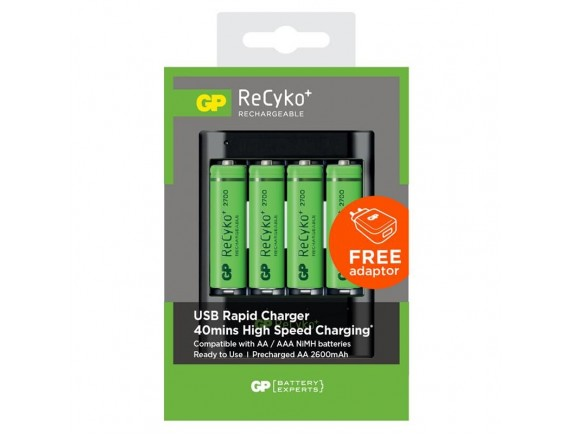Battery: (209, 158, 249, 293), (286, 158, 325, 293), (249, 158, 284, 292)
